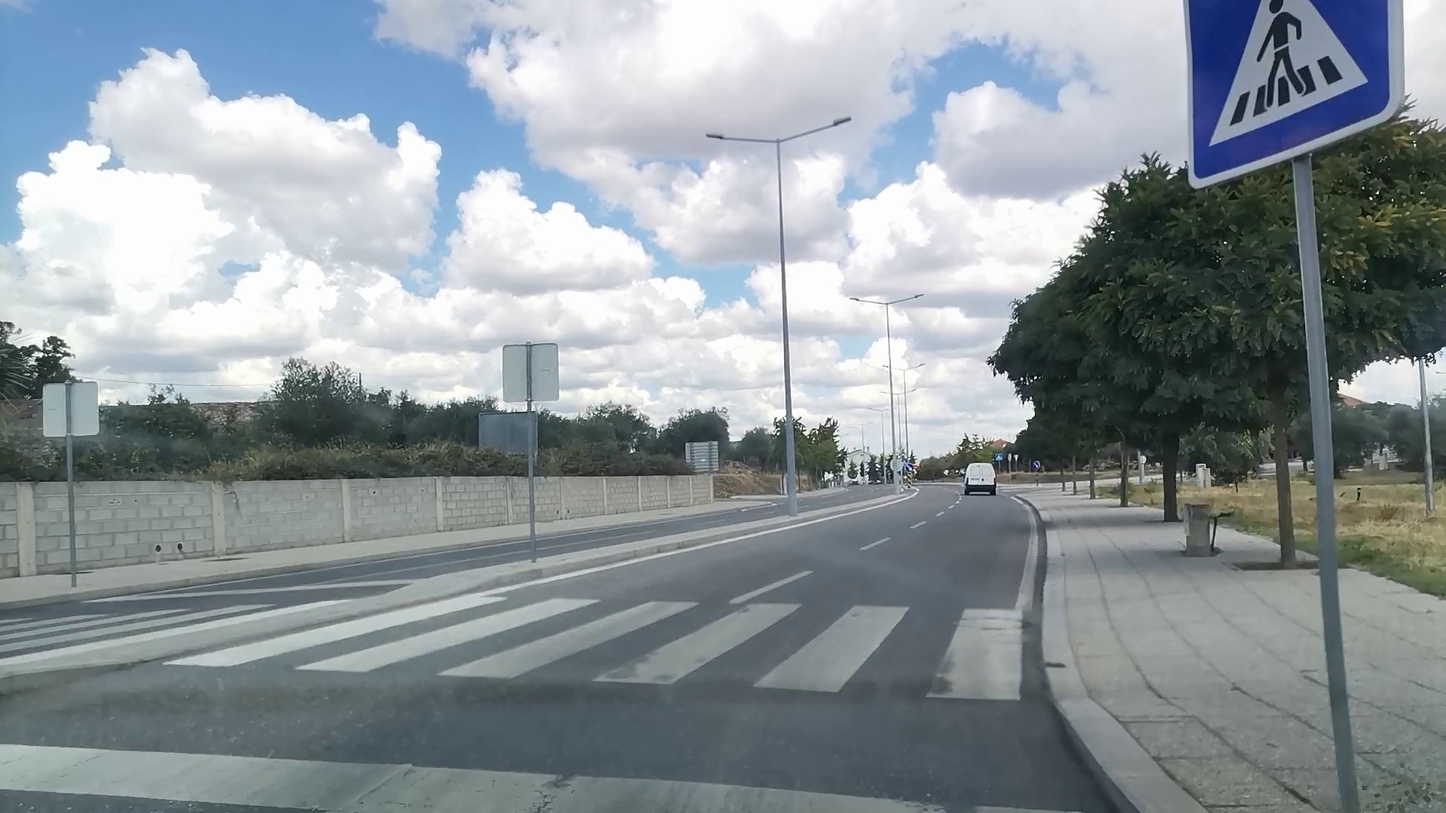Stairs: (0, 590, 1031, 704)
